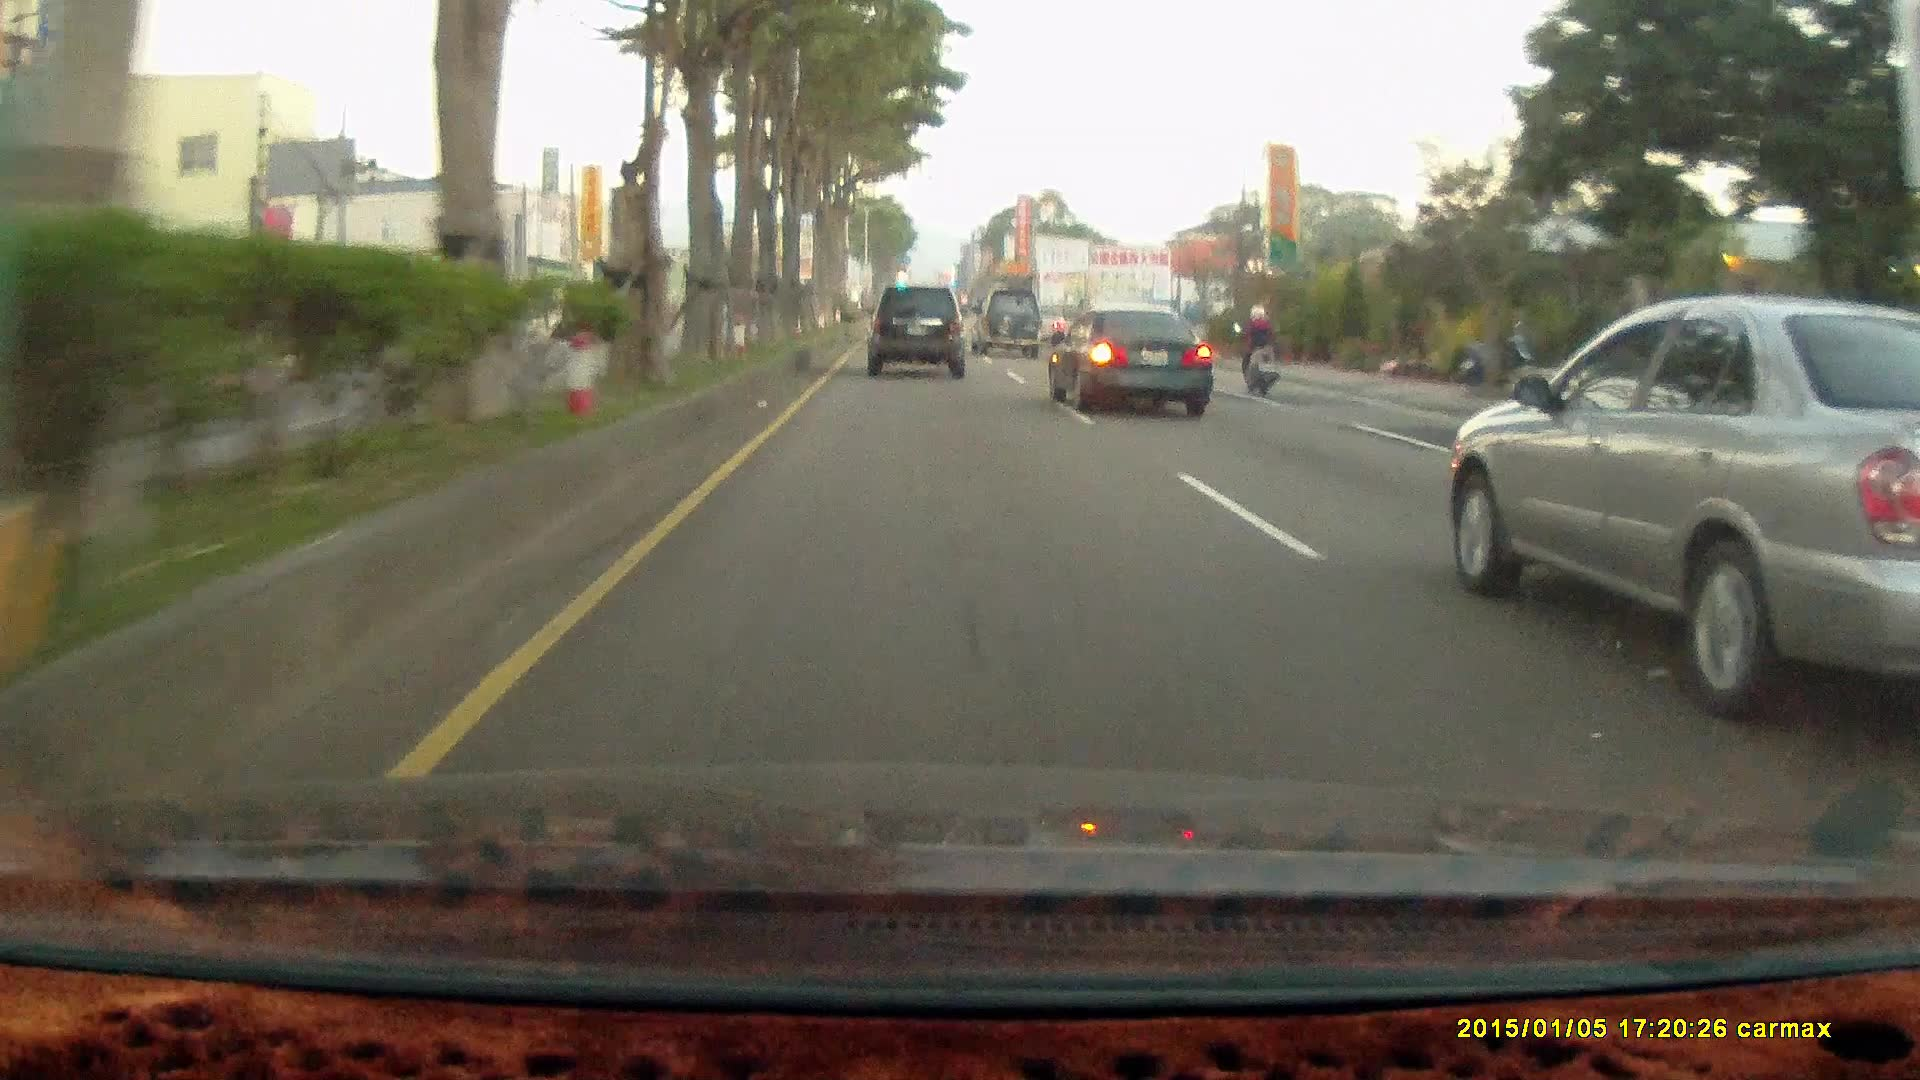rider: (1227, 293, 1291, 406), (1231, 295, 1282, 393)
vehicle: (1449, 297, 1915, 724), (1046, 301, 1218, 413), (1046, 305, 1213, 418), (865, 280, 976, 381), (862, 285, 963, 376), (974, 283, 1046, 355), (971, 288, 1040, 355)
